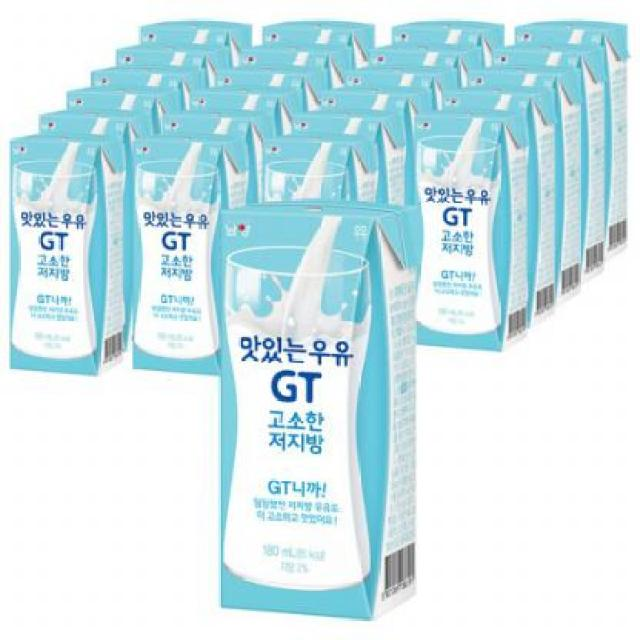tetra: (196, 188, 452, 630)
